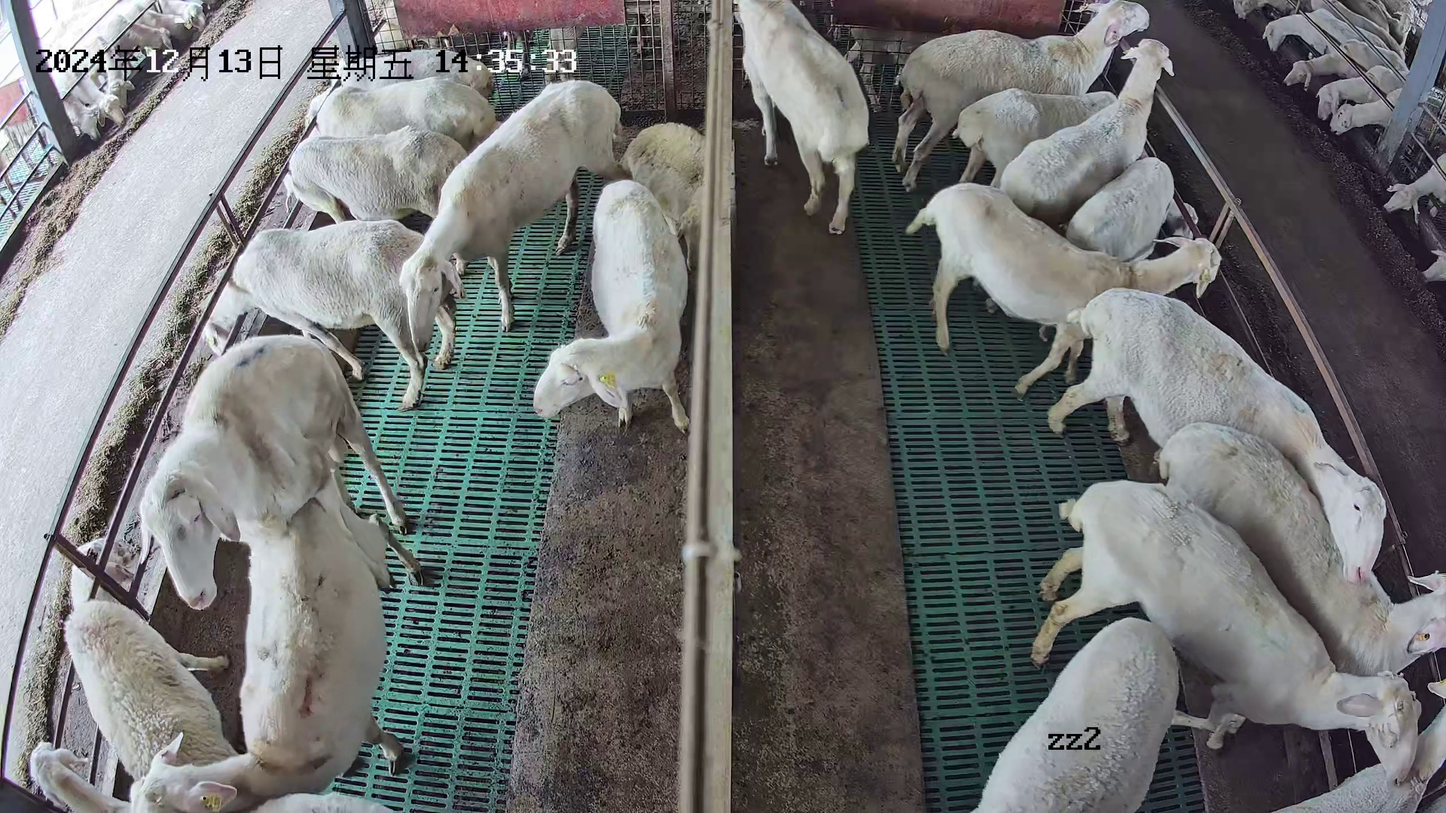Smounting: (125, 331, 429, 813)
mounted: (129, 490, 424, 813)
